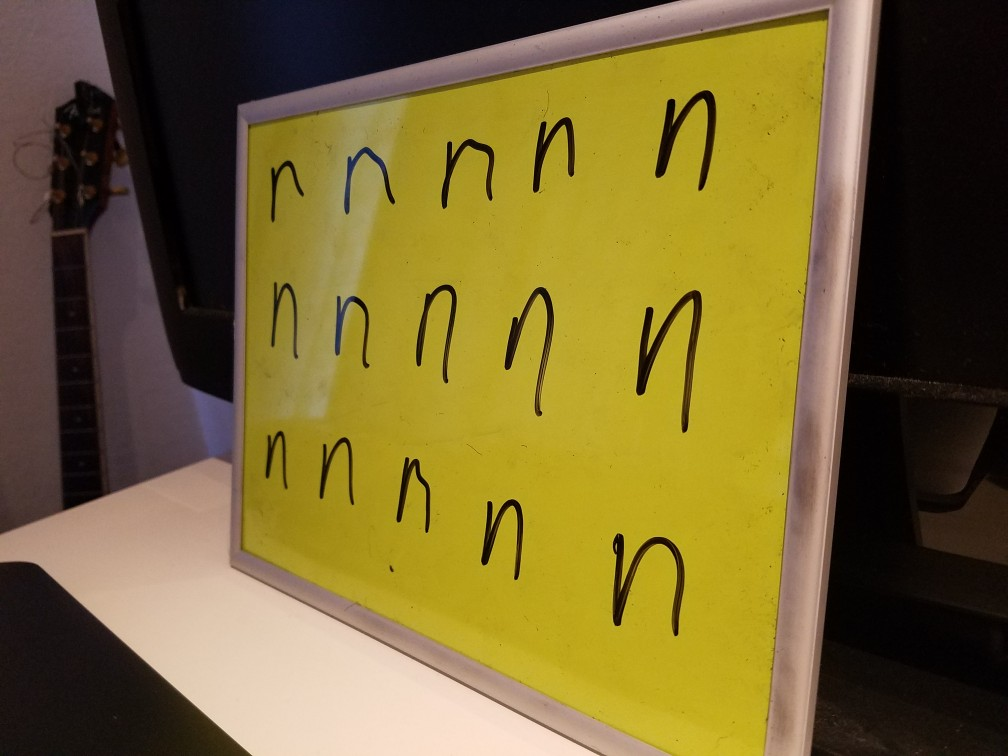n: (588, 509, 703, 658), (628, 275, 722, 440), (653, 80, 734, 206), (498, 271, 560, 428), (329, 130, 412, 230), (470, 477, 535, 591), (405, 274, 464, 385), (387, 442, 445, 548), (528, 109, 594, 200), (438, 117, 495, 222), (326, 279, 386, 377), (316, 428, 360, 517), (263, 270, 303, 366), (260, 420, 300, 503), (265, 154, 306, 234)
